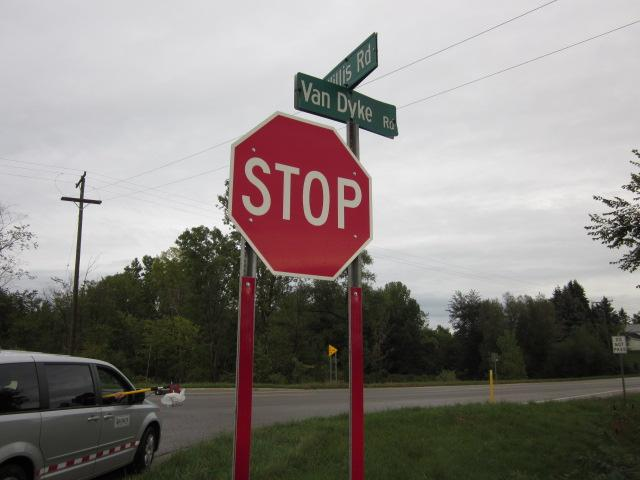stop: (225, 105, 378, 282)
